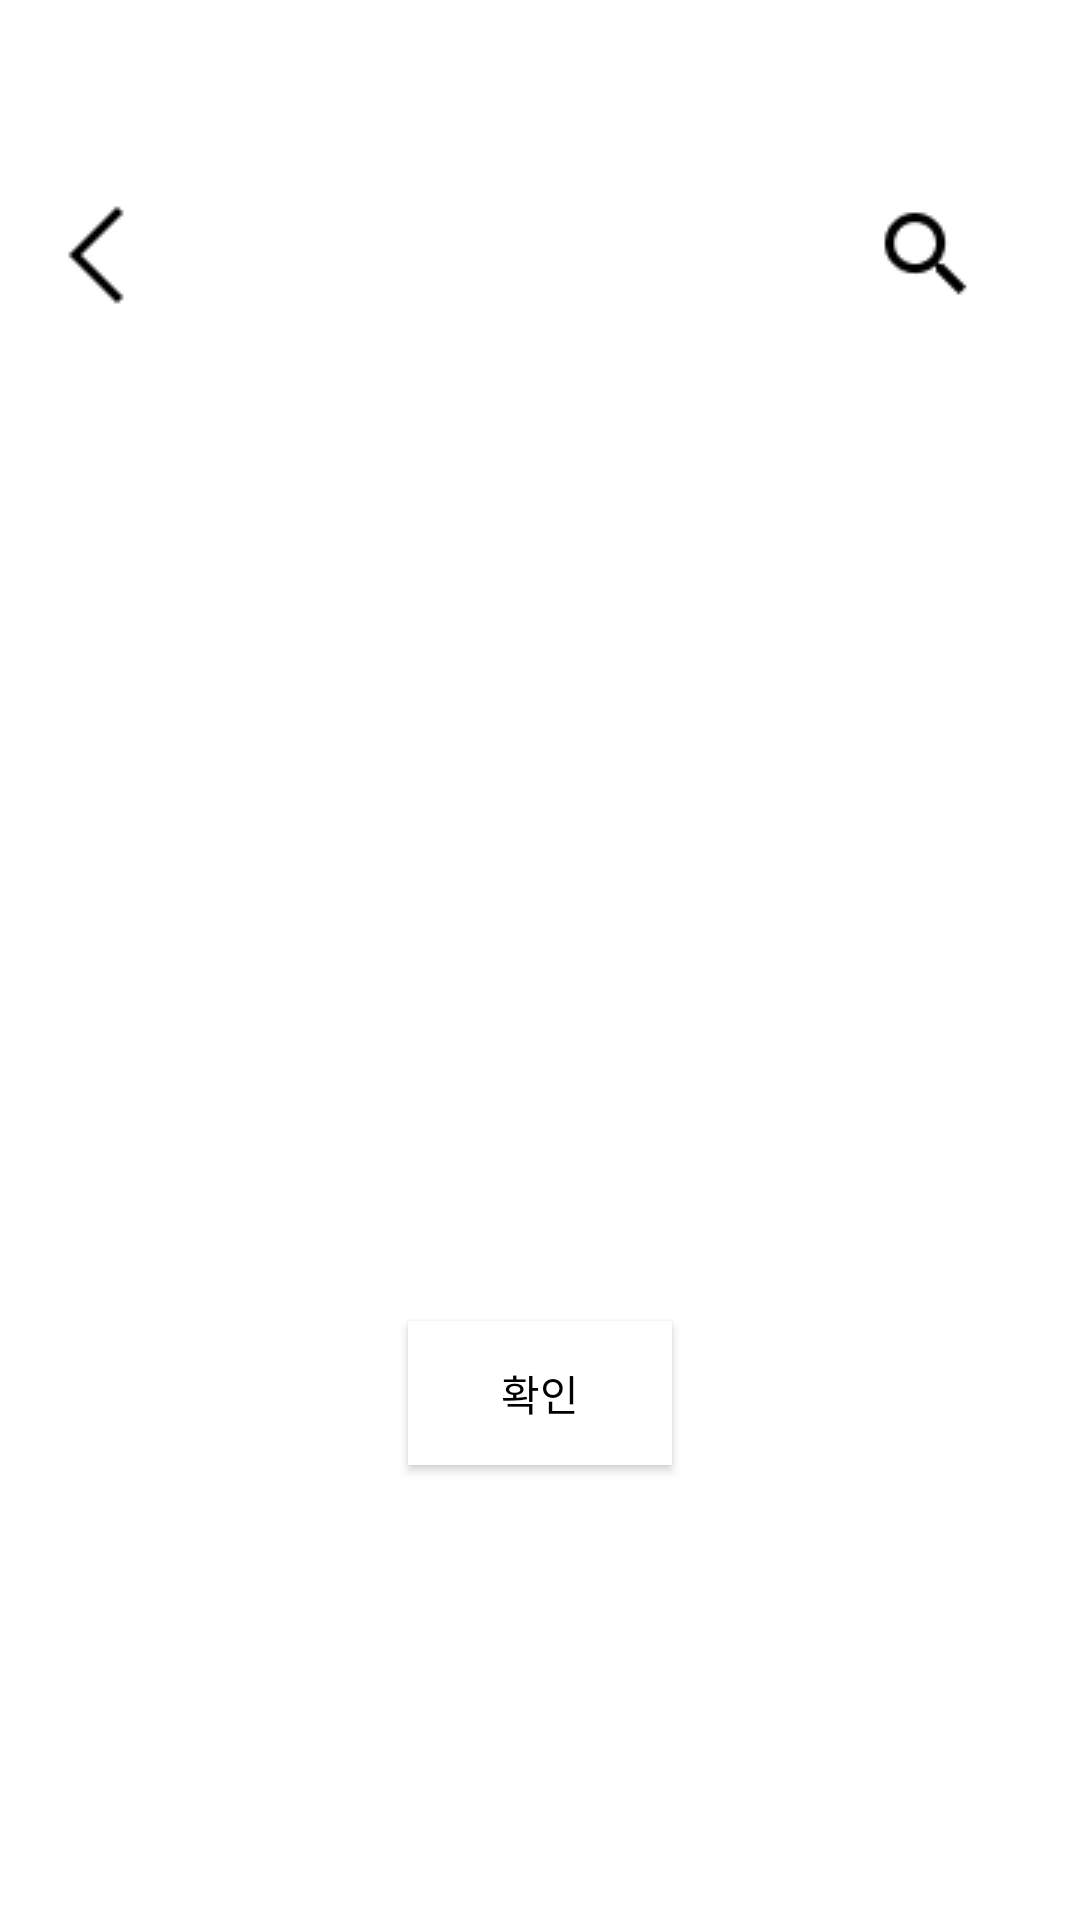

Named icons in this screenshot (1080*1920) and their bounding boxes, [left=x1, top=y1, right=x2, bottom=y2]:
back: [left=68, top=222, right=99, bottom=273]
